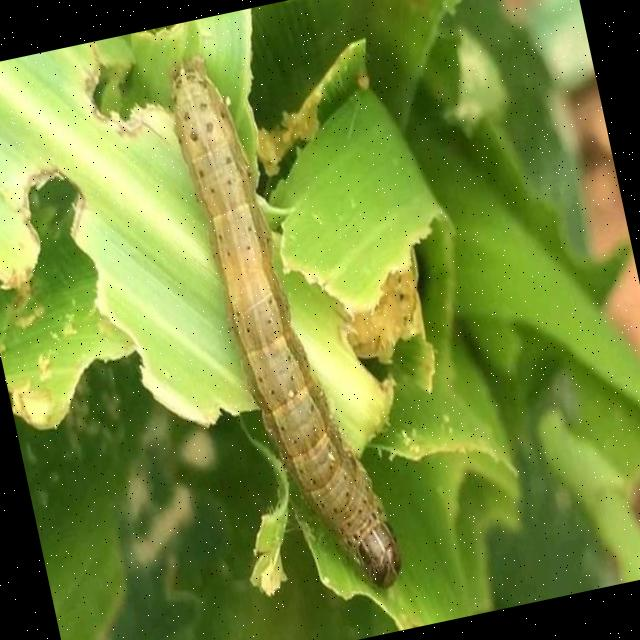worm: (160, 36, 410, 616)
